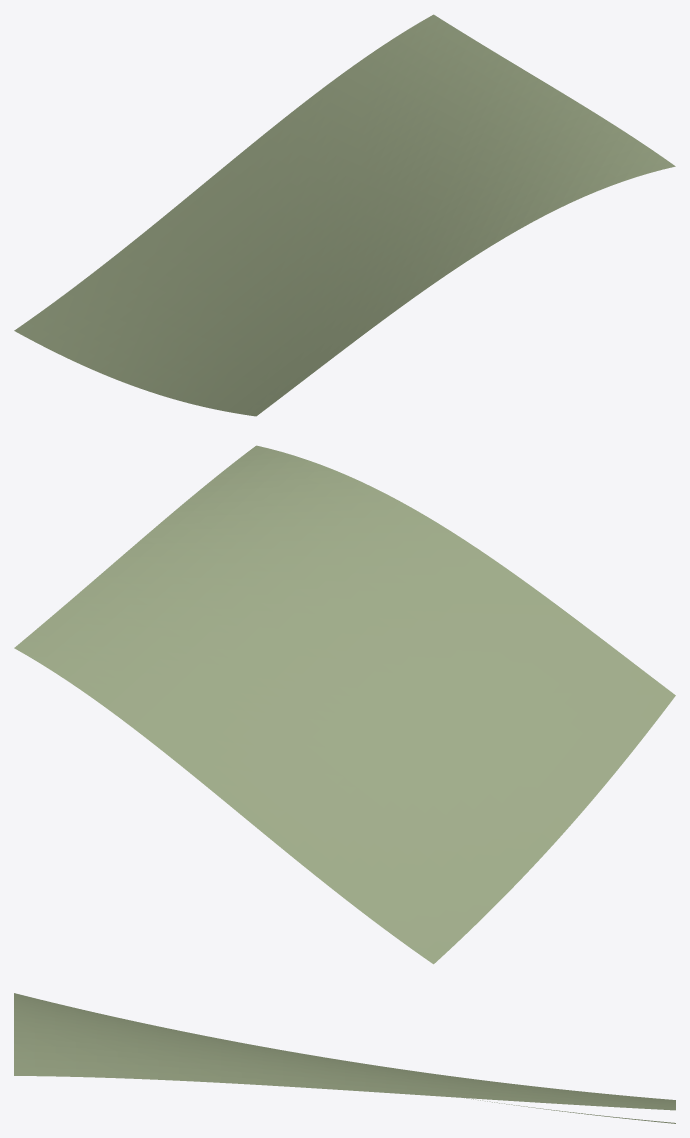
Rendered from expanse-28-26.glb.
The picture shows the model from 3 angles, top to bottom: view 1: azimuth 30°, elevation 25°; view 2: azimuth 150°, elevation 25°; view 3: azimuth 270°, elevation 25°; orthographic projection. The views are drawn at different scales.
Visible parts, largest first — view 1: expanse-28-26; view 2: expanse-28-26; view 3: expanse-28-26.
Boxes of the visible parts, <box> form: expanse-28-26: <box>14,14,675,416</box>; expanse-28-26: <box>14,445,675,964</box>; expanse-28-26: <box>14,993,675,1123</box>.
Bounding box in the file's own units: 256 × 140 × 256.
